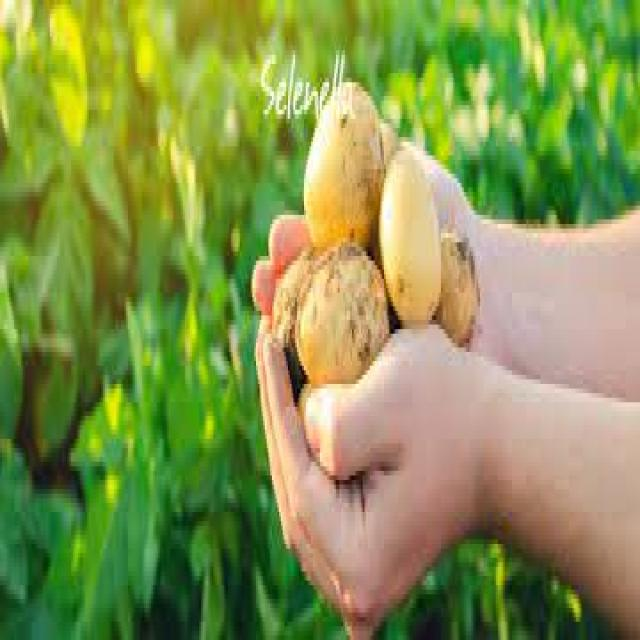Potato: (290, 218, 396, 400), (300, 66, 393, 254)
